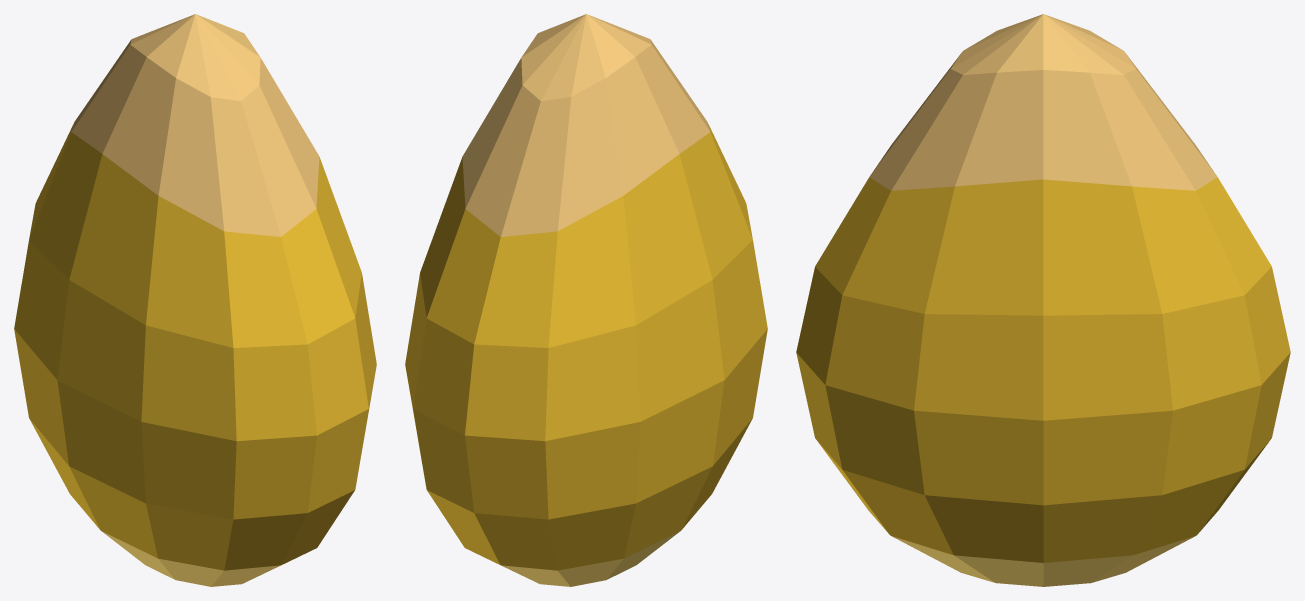
The model's file is misirtanesi.fbx.
3 views of the same model, side by side, from view 1: azimuth 30°, elevation 25°; view 2: azimuth 150°, elevation 25°; view 3: azimuth 270°, elevation 25° (orthographic).
Parts seen in each view (by area): view 1: Sphere; view 2: Sphere; view 3: Sphere.
Part boxes in pixels (bbox=[...]): Sphere: bbox=[14, 14, 376, 586]; Sphere: bbox=[405, 14, 767, 586]; Sphere: bbox=[796, 14, 1290, 586].
Bounding box in the file's own units: 136 × 260 × 207.
1 material, 1 textured.
